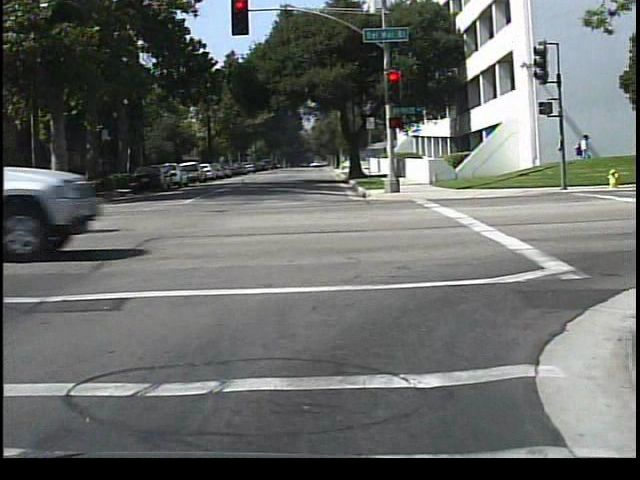person: (572, 127, 596, 181)
